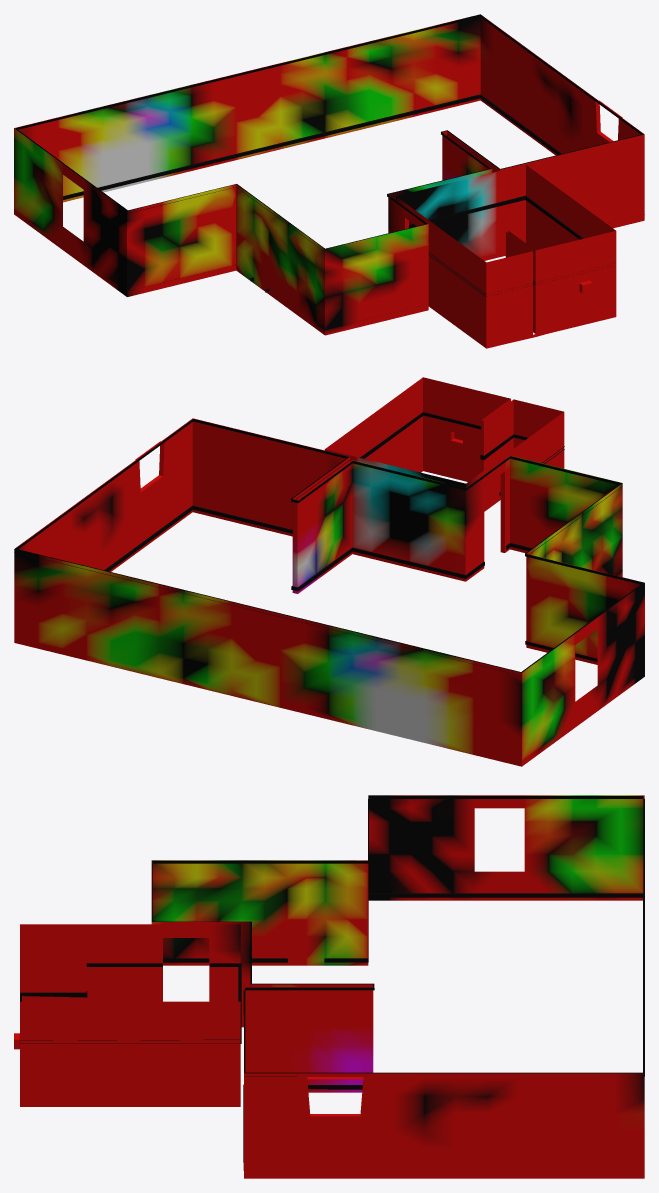
File: HouseWalls.fbx
3 views of the same model, one above another, from view 1: azimuth 30°, elevation 25°; view 2: azimuth 150°, elevation 25°; view 3: azimuth 270°, elevation 25° (orthographic). The views are drawn at different scales.
Parts seen in each view (by area): view 1: SM_Molding_LOD1_dup; view 2: SM_Molding_LOD1_dup; view 3: SM_Molding_LOD1_dup.
Boxes of the visible parts, x1=… form: SM_Molding_LOD1_dup: x1=14, y1=14, x2=644, y2=348; SM_Molding_LOD1_dup: x1=14, y1=377, x2=644, y2=766; SM_Molding_LOD1_dup: x1=14, y1=795, x2=644, y2=1178.
Size of the model in its own units: 1980 by 349 by 1884.
